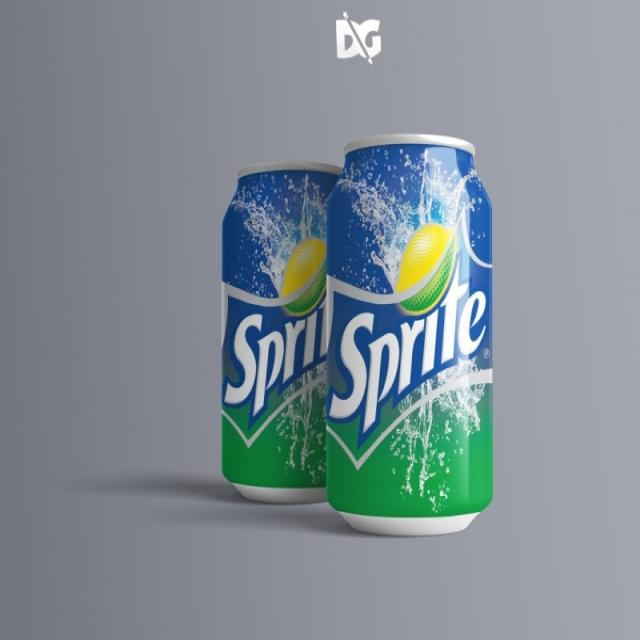sprite: (326, 148, 508, 519)
